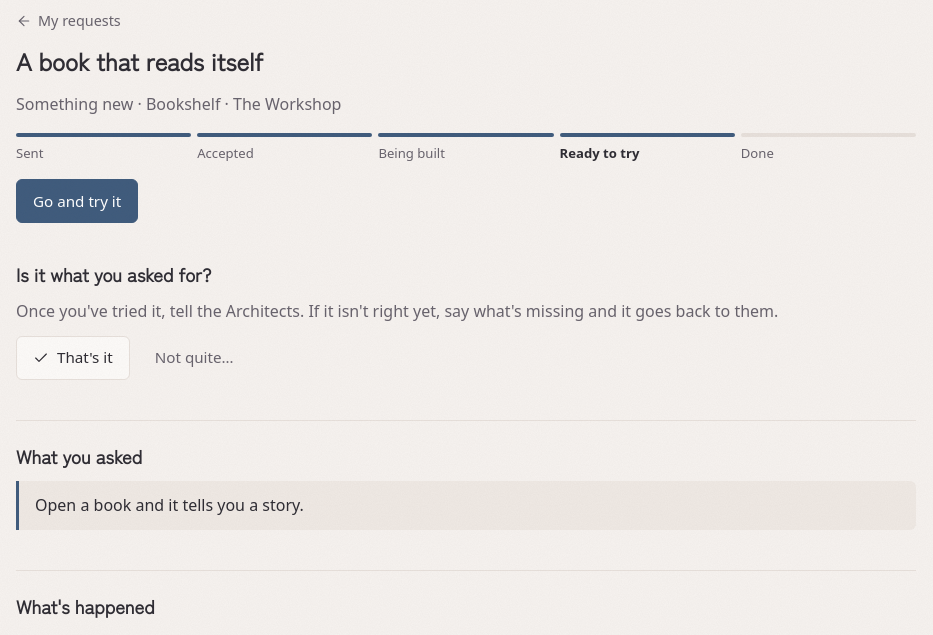
Scenario: the request pages › asks the person who asked whether it is what they wanted, and "That's it" makes it done
The image size is (933, 635).
Click the button "That's it". click: (73, 358)
box: [16, 336, 130, 380]
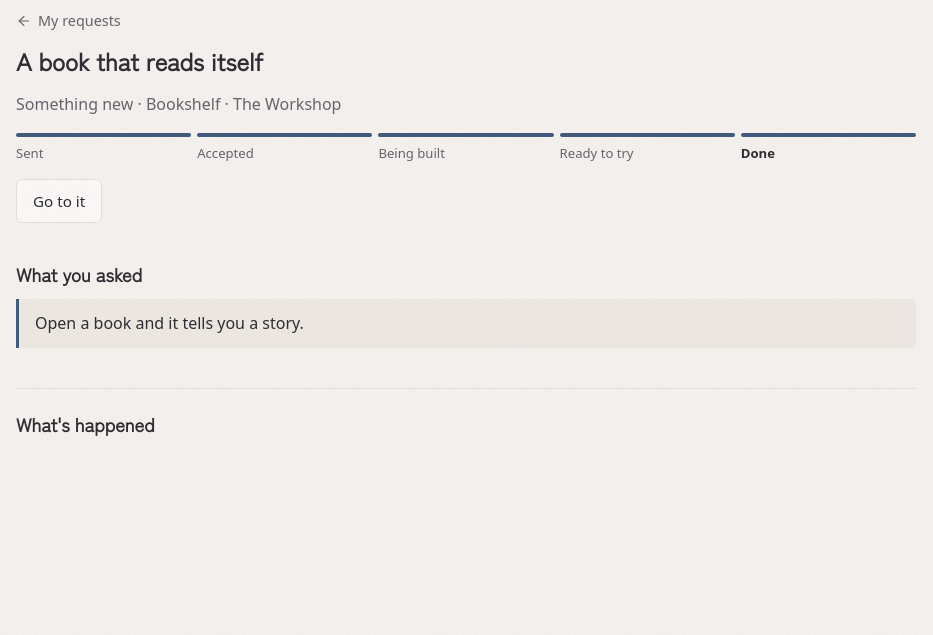
Expected: the button "Go to it" is shown, [16, 179, 102, 223]
Now the text "Is it what you asked for?" is gone
